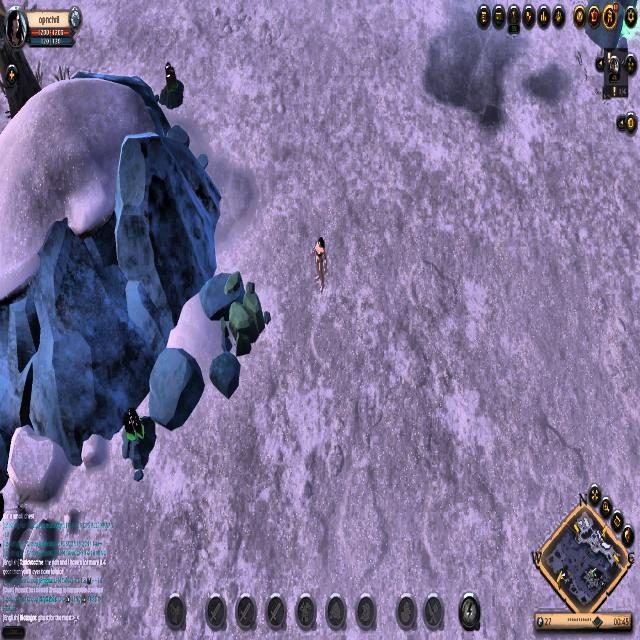sandstone: (222, 266, 274, 365)
tin_ore: (117, 408, 158, 472), (154, 62, 189, 113)
